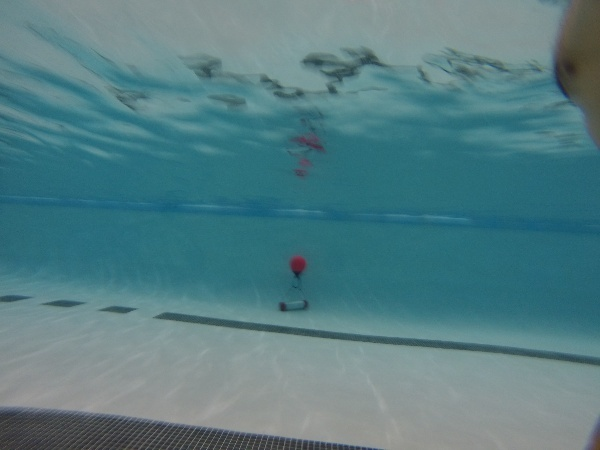buoy_red: (288, 255, 307, 281)
